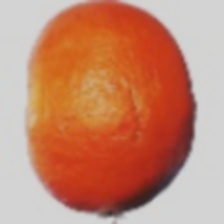tangerine: (53, 45, 214, 198)
